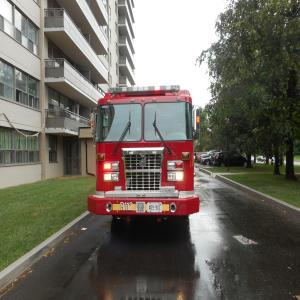Vehicle-registration-plate: (147, 203, 163, 214)
